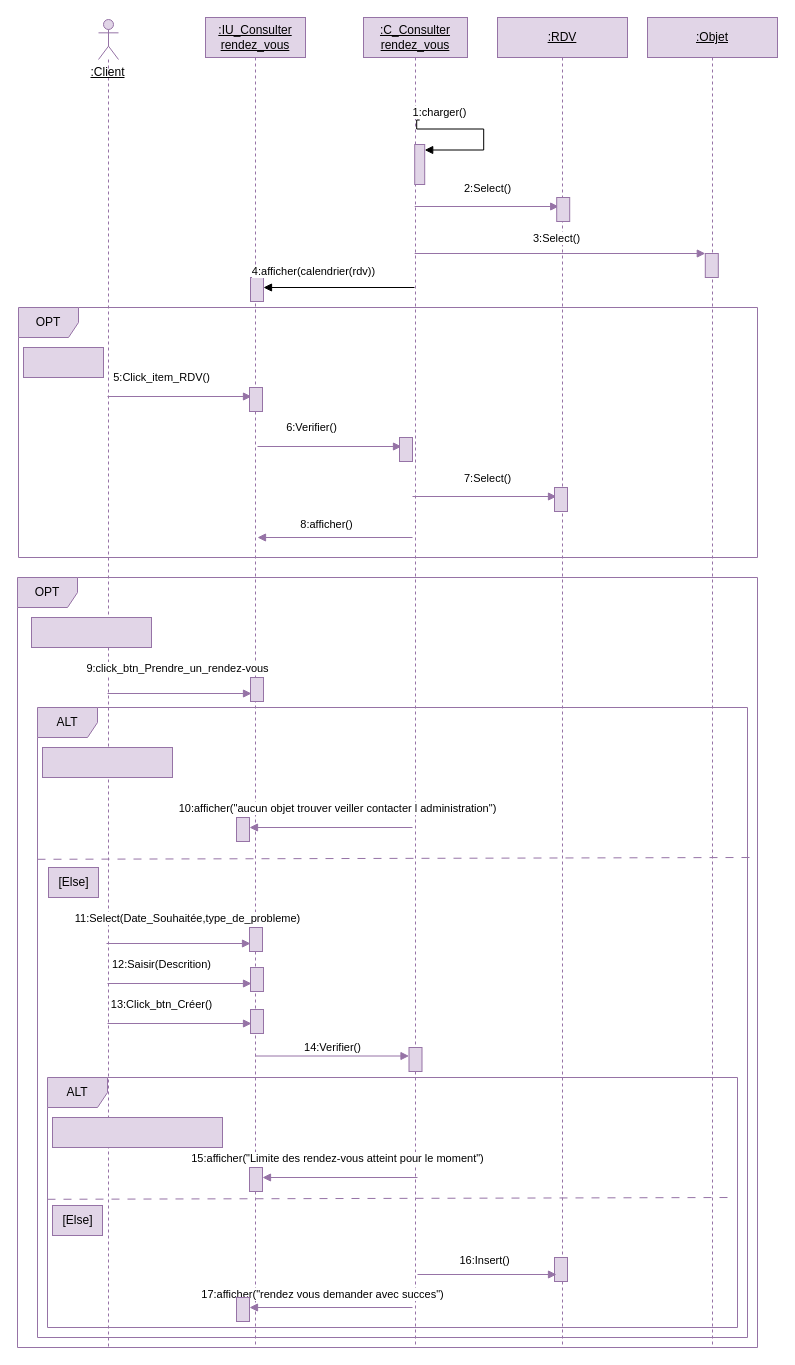
Image size: 795x1365. Some labels were removed from this diagram. The centre of each missing label's shape, as x and y in pixels:
"[3 RDV avec etat en attente]" goes at [137,1132].
"[Aucun objet trouver]" goes at [107,762].
"[Consulter]" goes at [63,362].
"[Demander_RDV]" goes at [91,632].
